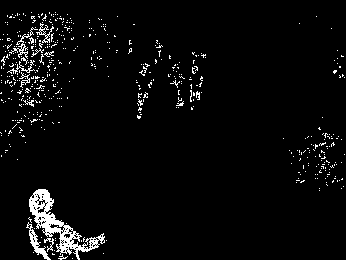person: (133, 61, 154, 123)
